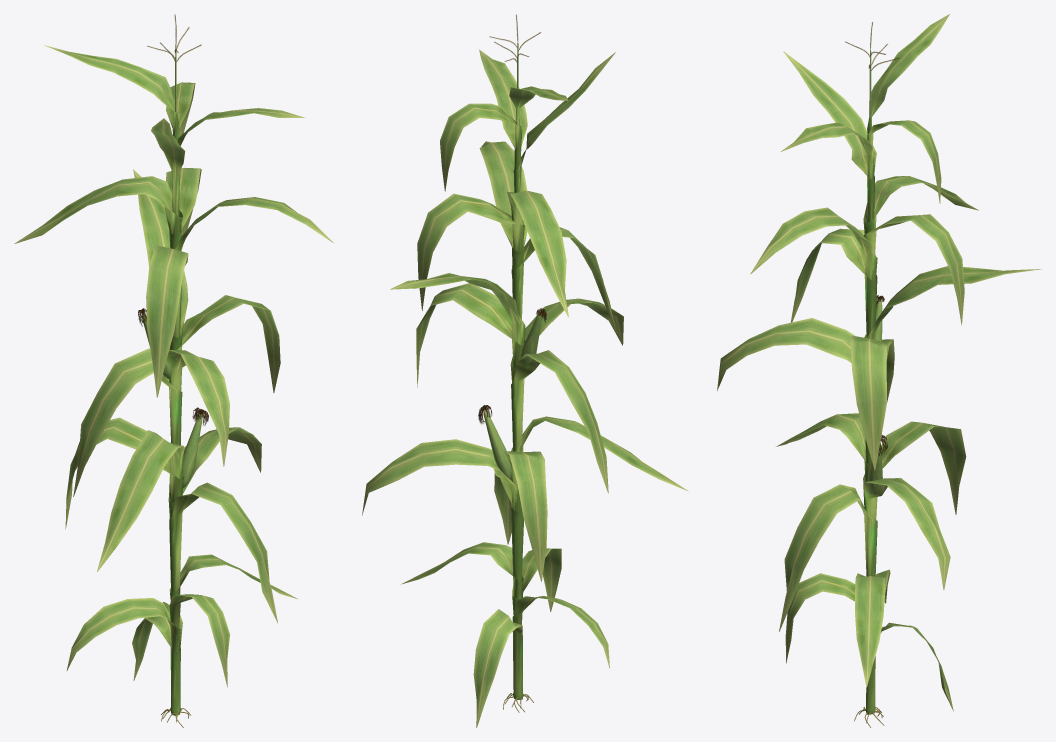
Rendered from PRP_Corn.glb.
The picture shows the model from 3 angles, left to right: view 1: azimuth 30°, elevation 25°; view 2: azimuth 150°, elevation 25°; view 3: azimuth 270°, elevation 25°; orthographic projection.
Parts seen in each view (by area): view 1: defaultMaterial (×3); view 2: defaultMaterial (×2); view 3: defaultMaterial (×2).
Boxes of the visible parts, x1,y1,x2,y2 form: defaultMaterial (×3): (14, 14, 333, 727); defaultMaterial (×2): (362, 41, 688, 727); defaultMaterial (×2): (717, 14, 1041, 727).
Bounding box in the file's own units: 0.9752 × 2.65 × 1.11.
Materials: 3 (3 with a texture image).
